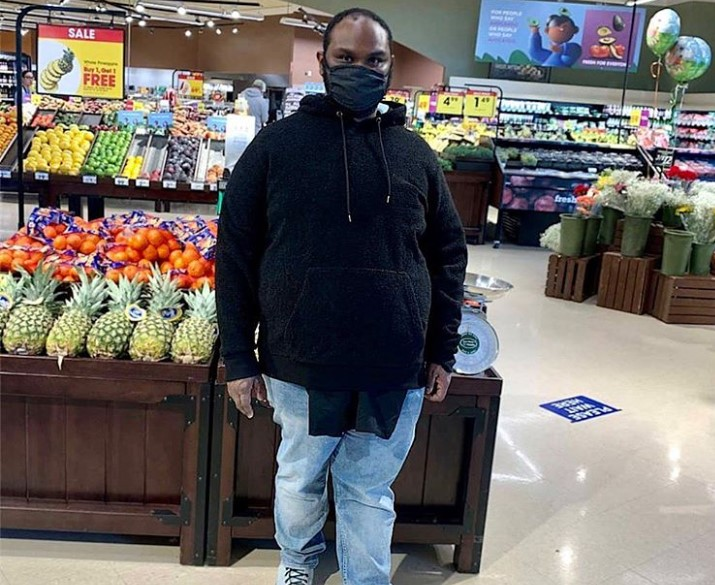face_with_mask: (316, 11, 398, 123)
